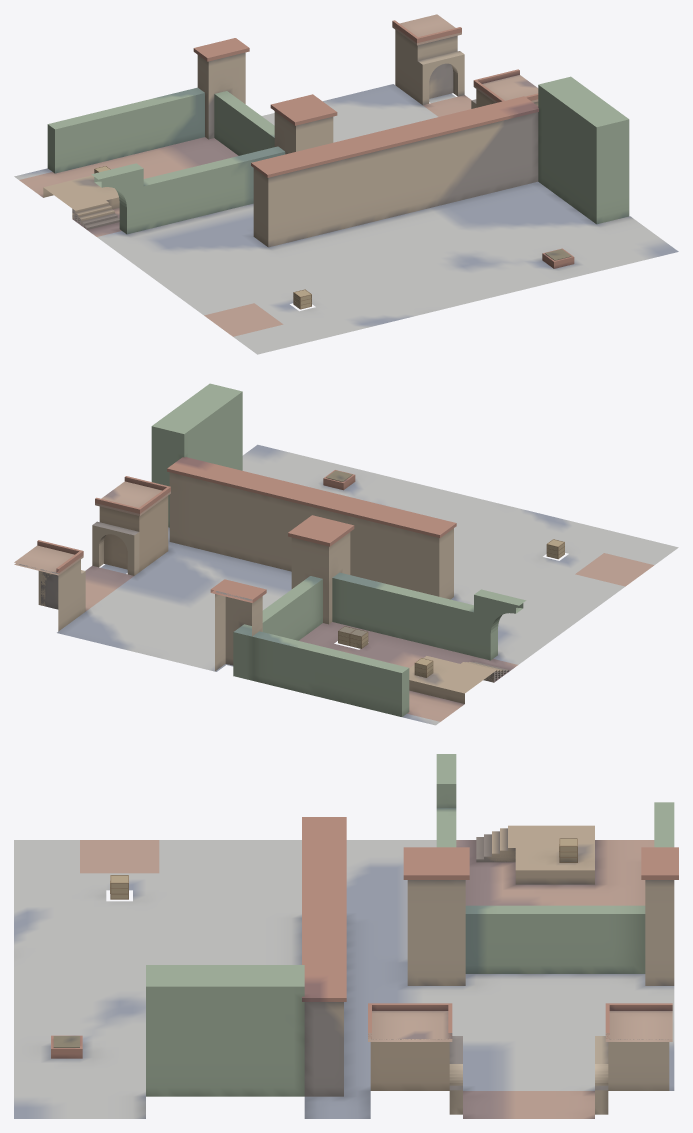
3 views of the same model, one above another, from view 1: azimuth 30°, elevation 25°; view 2: azimuth 150°, elevation 25°; view 3: azimuth 270°, elevation 25° (orthographic). The views are drawn at different scales.
Visible parts, largest first — view 1: t; view 2: t; view 3: t.
Part boxes in pixels (x1,y1,x2,y2): t: (14, 14, 678, 354); t: (14, 383, 678, 725); t: (14, 754, 678, 1118).
Bounding box in the file's own units: 50.5 × 11 × 50.36.
